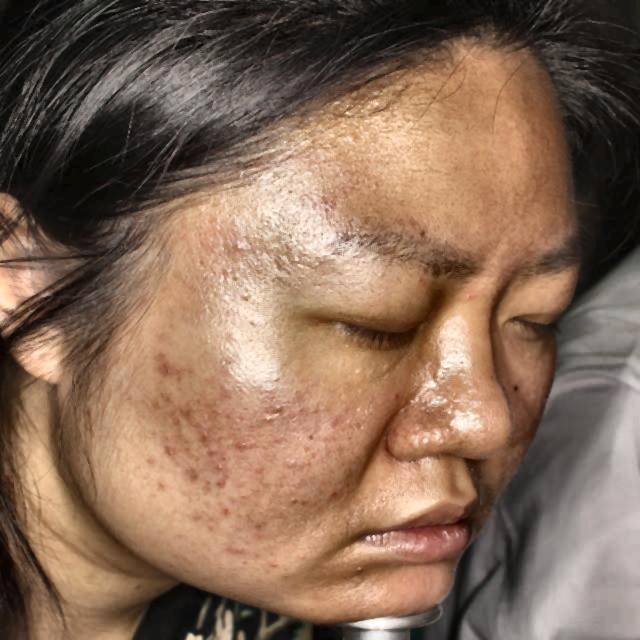pustule: (229, 431, 249, 459), (155, 356, 174, 384), (196, 424, 216, 449), (227, 539, 248, 560), (163, 439, 177, 465), (181, 465, 199, 484), (220, 503, 236, 522), (212, 472, 227, 492)
